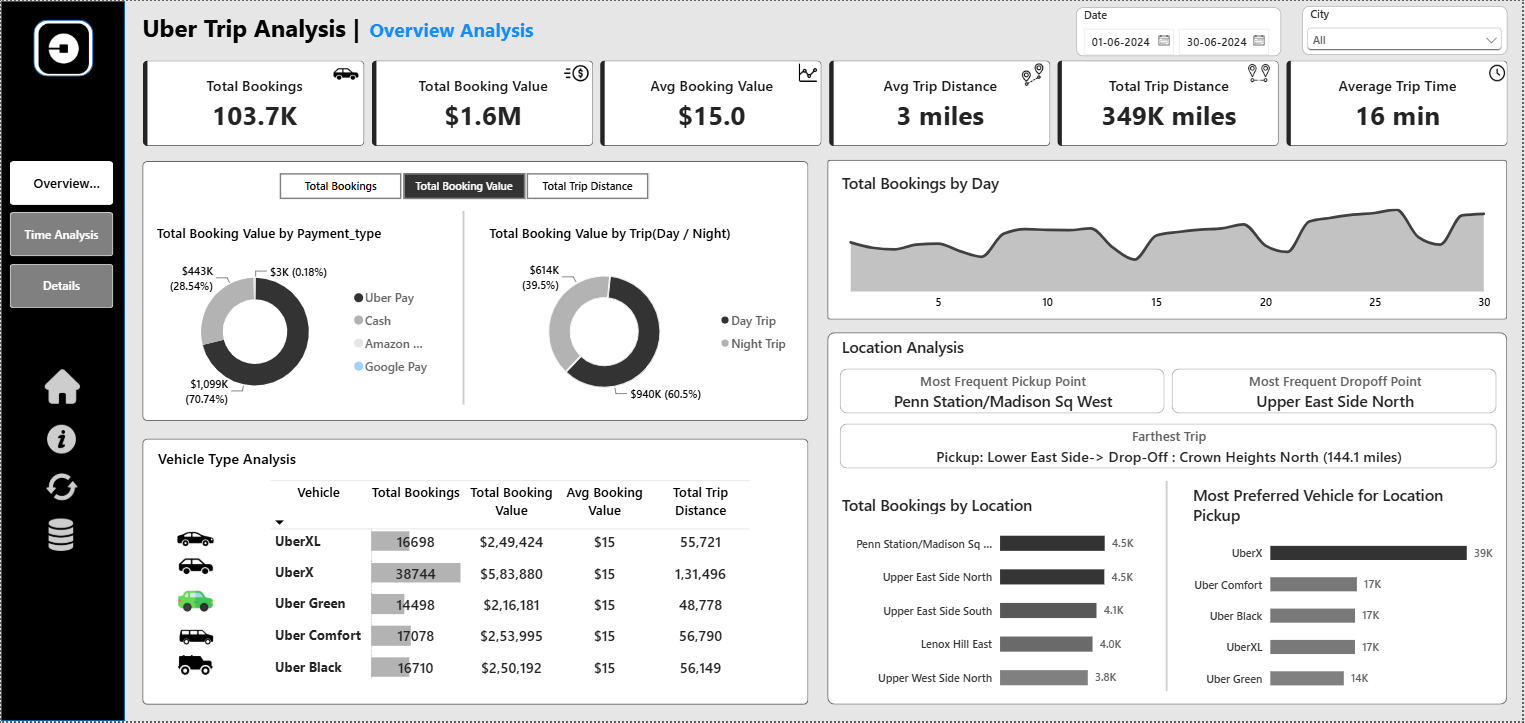

Layout of this report page (visuals, bound fields, positions):
{"tool":"powerbi","page":{"name":"Overview Analysis","canvas":[1690,800],"ordinal":0},"visuals":[{"type":"shape","box":[0,0,137.5,800],"z":0},{"type":"textbox","box":[156.9,0,451.4,58.3],"z":1000},{"type":"cardVisual","fields":{"Data":["Trip Details.Total Bookings","Trip Details.Total Booking Value","Trip Details.Avg Booking Amount","Trip Details.Avg Trip Distance","Trip Details.Total Trip Distance","Trip Details.Average Trip Time"]},"box":[156.9,65.3,1519.4,97.2],"z":2000},{"type":"image","box":[625,66.7,28.8,27.4],"z":3000},{"type":"image","box":[1652.8,70.8,19.4,18.1],"z":4000},{"type":"image","box":[877.8,68.1,37,23.3],"z":5000},{"type":"image","box":[1131.9,69.4,30.6,25],"z":6000},{"type":"image","box":[1383.3,68.1,29.2,23.6],"z":7000},{"type":"image","box":[362.5,66.7,41.1,28.8],"z":8000},{"type":"shape","box":[156.9,177.8,740.3,288.9],"z":9000},{"type":"slicer","fields":{"Values":["Dynamic Measure.Dynamic Measure"]},"box":[288.9,188.9,449.3,32.9],"z":10000},{"type":"donutChart","fields":{"Category":["Trip Details.Payment_type"],"Y":["Trip Details.Total Booking Value"]},"box":[156.9,233.3,344.4,233.3],"z":11000},{"type":"donutChart","fields":{"Category":["Trip Details.Tri Type (Day / Night)"],"Y":["Trip Details.Total Booking Value"]},"box":[526.4,233.3,370.8,233.3],"z":12000},{"type":"shape","box":[156.9,486.1,740.3,295.8],"z":13000},{"type":"pivotTable","fields":{"Rows":["Trip Details.Vehicle"],"Values":["Trip Details.Total Bookings","Trip Details.Total Booking Value","Trip Details.Avg Booking Value","Trip Details.Total Trip Distance Measure"]},"box":[283.3,518.1,576.4,258.3],"z":14000},{"type":"shape","box":[36.1,20.8,66.3,62.9],"z":15000},{"type":"image","box":[9.7,25,120,56],"z":16000},{"type":"image","box":[48.6,408.3,38.9,40.3],"z":17000},{"type":"image","box":[47.2,470.8,40,32],"z":18000},{"type":"image","box":[41.7,522.2,52,35],"z":19000},{"type":"image","box":[33.3,575,66.3,36],"z":20000},{"type":"image","box":[180.6,575,70.8,45.8],"z":21000},{"type":"image","box":[188.9,608.3,55.6,38.9],"z":22000},{"type":"image","box":[188.9,647.2,54.2,38.9],"z":23000},{"type":"image","box":[183.3,686.1,66.7,41.7],"z":24000},{"type":"image","box":[184.7,718.1,62.5,38.9],"z":25000},{"type":"cardVisual","fields":{"Data":["Trip Details.Title for Analysis"]},"box":[148.6,494.4,205.5,27.4],"z":26000},{"type":"shape","box":[918.1,176.4,755.6,177.8],"z":27000},{"type":"shape","box":[918.1,368.1,755.6,413.9],"z":28000},{"type":"cardVisual","fields":{"Data":["Trip Details.Most Frequent Pickup Point","Trip Details.Most Frequent Dropoff Point"]},"box":[931.9,408.3,730.6,50],"z":29000},{"type":"cardVisual","fields":{"Data":["Trip Details.Farthest Trip"]},"box":[931.9,469.4,730.6,50],"z":30000},{"type":"barChart","fields":{"Category":["Location Table.Location"],"Y":["Trip Details.Total Bookings"]},"box":[918.1,533.3,363.9,244.4],"z":31000},{"type":"areaChart","fields":{"Category":["Calendar Table.Date.Variation.Date Hierarchy.Day"],"Y":["Trip Details.Total Bookings"]},"box":[918.1,176.4,755.6,187.5],"z":32000},{"type":"barChart","title":"Most Preferred Vehicle for Location Pickup","fields":{"Category":["Trip Details.Vehicle"],"Y":["CountNonNull(Trip Details.PULocationID)"]},"box":[1308.3,522.2,365.3,255.6],"z":33000},{"type":"shape","box":[501.4,233.3,25,215.3],"z":34000},{"type":"shape","box":[1281.9,533.3,26.4,233.3],"z":35000},{"type":"cardVisual","fields":{"Data":["Trip Details.Title for Location"]},"box":[918.1,363.9,187.5,40.3],"z":36000},{"type":"slicer","fields":{"Values":["Location Table.City"]},"box":[1445.8,5.6,227.8,54.2],"z":37000},{"type":"slicer","fields":{"Values":["Calendar Table.Date"]},"box":[1194.4,6.9,227.8,54.2],"z":38000},{"type":"pageNavigator","box":[9.6,178.1,115.1,163],"z":39000}]}

Visuals, with their boxes on the page's 1690x800 design canvas (x1, y1, x2, y2). These are canvas units, not pixel positions in the 1525x723 screenshot, which may show the page scaled, cropped or inside an application window:
shape: 0/0/138/800
textbox: 157/0/608/58
cardVisual - Trip Details.Total Bookings x Trip Details.Total Booking Value: 157/65/1676/162
image: 625/67/654/94
image: 1653/71/1672/89
image: 878/68/915/91
image: 1132/69/1162/94
image: 1383/68/1412/92
image: 362/67/404/96
shape: 157/178/897/467
slicer - Dynamic Measure.Dynamic Measure: 289/189/738/222
donutChart - Trip Details.Payment_type x Trip Details.Total Booking Value: 157/233/501/467
donutChart - Trip Details.Tri Type (Day / Night) x Trip Details.Total Booking Value: 526/233/897/467
shape: 157/486/897/782
pivotTable - Trip Details.Vehicle x Trip Details.Total Bookings: 283/518/860/776
shape: 36/21/102/84
image: 10/25/130/81
image: 49/408/88/449
image: 47/471/87/503
image: 42/522/94/557
image: 33/575/100/611
image: 181/575/251/621
image: 189/608/244/647
image: 189/647/243/686
image: 183/686/250/728
image: 185/718/247/757
cardVisual - Trip Details.Title for Analysis: 149/494/354/522
shape: 918/176/1674/354
shape: 918/368/1674/782
cardVisual - Trip Details.Most Frequent Pickup Point x Trip Details.Most Frequent Dropoff Point: 932/408/1662/458
cardVisual - Trip Details.Farthest Trip: 932/469/1662/519
barChart - Location Table.Location x Trip Details.Total Bookings: 918/533/1282/778
areaChart - Calendar Table.Date.Variation.Date Hierarchy.Day x Trip Details.Total Bookings: 918/176/1674/364
"Most Preferred Vehicle for Location Pickup" barChart: 1308/522/1674/778
shape: 501/233/526/449
shape: 1282/533/1308/767
cardVisual - Trip Details.Title for Location: 918/364/1106/404
slicer - Location Table.City: 1446/6/1674/60
slicer - Calendar Table.Date: 1194/7/1422/61
pageNavigator: 10/178/125/341
